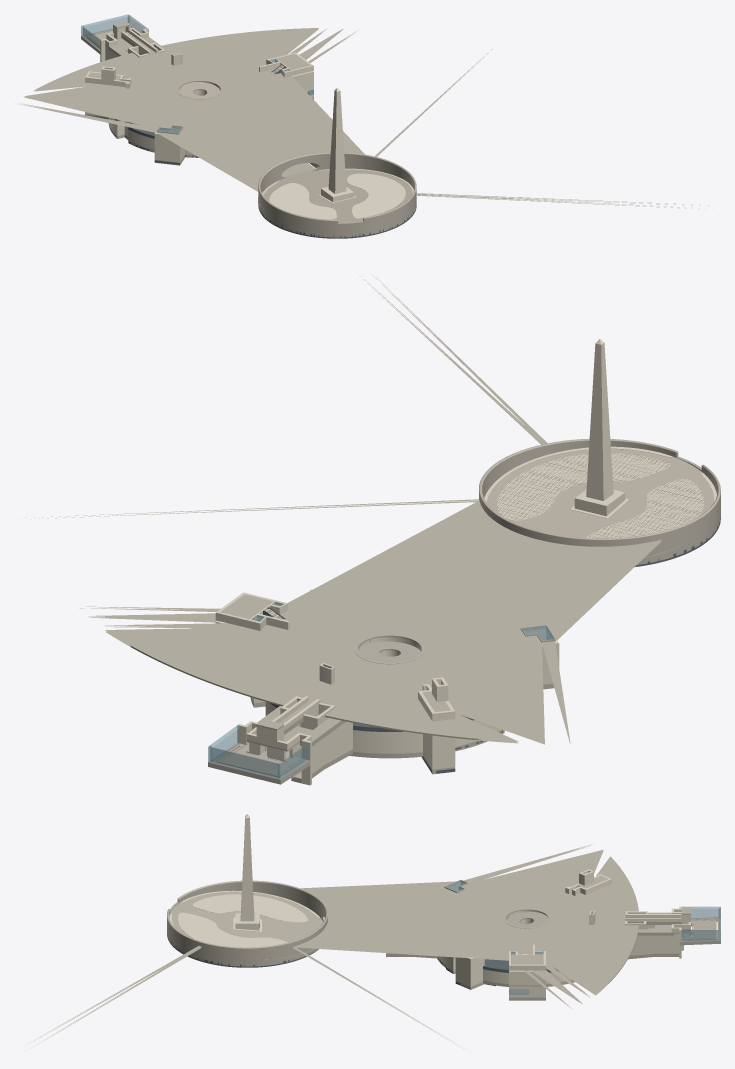
The model's file is museum-of-emotions.glb.
The picture shows the model from 3 angles, top to bottom: view 1: azimuth 30°, elevation 25°; view 2: azimuth 150°, elevation 25°; view 3: azimuth 270°, elevation 25°; orthographic projection. The views are drawn at different scales.
Visible parts, largest first — view 1: Stone, Monument, Plaster, Glazing, Metal; view 2: Stone, Monument, Plaster, Glazing; view 3: Stone, Plaster, Monument, Glazing, Metal.
Part boxes in pixels (bbox=[...]): Stone: bbox=[20, 21, 708, 237]; Monument: bbox=[262, 88, 413, 219]; Plaster: bbox=[85, 25, 318, 166]; Glazing: bbox=[81, 14, 313, 133]; Metal: bbox=[87, 64, 416, 238]; Stone: bbox=[22, 275, 720, 784]; Monument: bbox=[484, 339, 716, 538]; Plaster: bbox=[215, 589, 559, 785]; Glazing: bbox=[208, 602, 554, 779]; Stone: bbox=[27, 844, 720, 1047]; Plaster: bbox=[325, 869, 690, 997]; Monument: bbox=[169, 814, 321, 947]; Glazing: bbox=[446, 880, 720, 994]; Metal: bbox=[167, 922, 558, 986].
Size of the model in its own units: 136 by 43.13 by 193.
